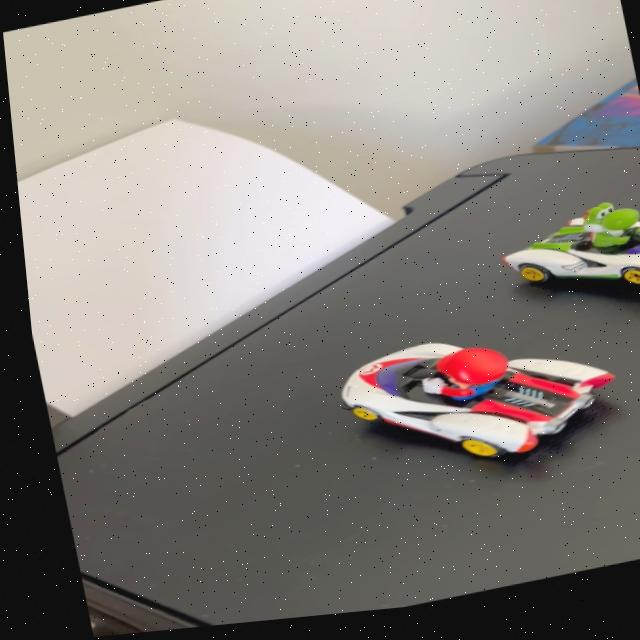mario: (299, 316, 637, 510)
yoshi: (477, 198, 640, 328)
